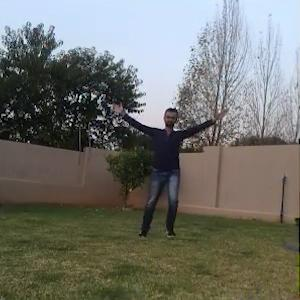takeoff: (107, 95, 217, 241)
